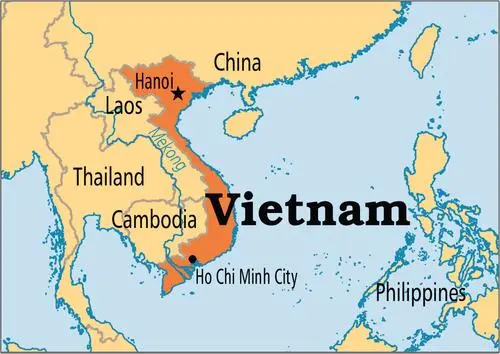Island: (276, 247, 356, 301), (262, 149, 293, 183)
